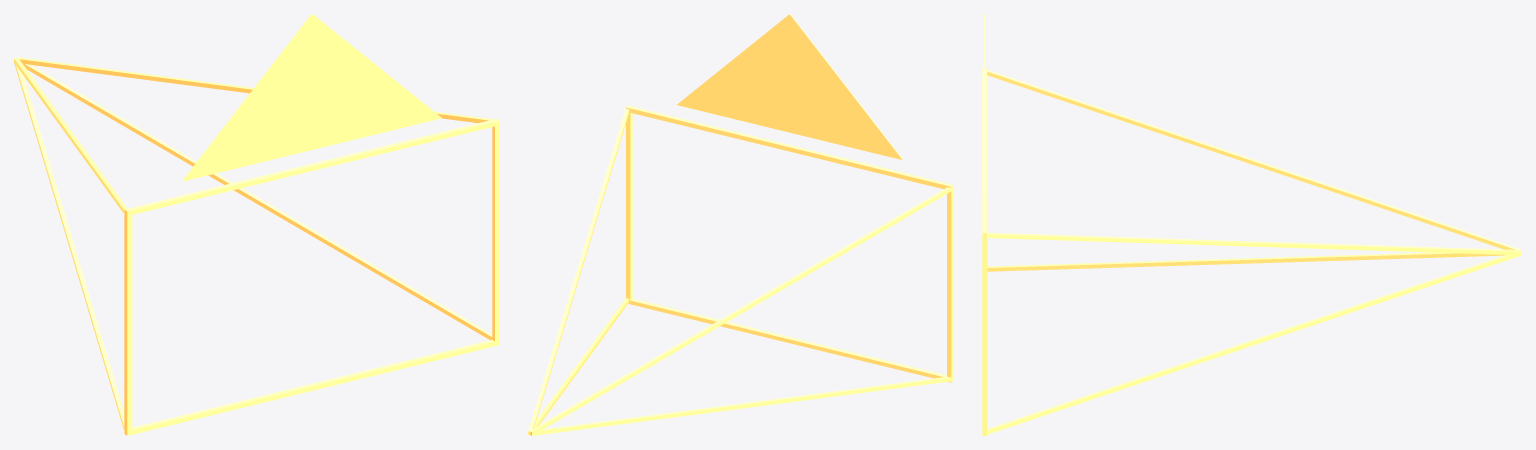
Rendered from camera.glb.
3 renders of one model, left to right at view 1: azimuth 30°, elevation 25°; view 2: azimuth 150°, elevation 25°; view 3: azimuth 270°, elevation 25°, orthographic. The views are drawn at different scales.
Visible parts, largest first — view 1: Object_4; view 2: Object_4; view 3: Object_4.
Boxes of the visible parts, left/top/right/bottom form: Object_4: left=14, top=14, right=499, bottom=435; Object_4: left=528, top=14, right=953, bottom=435; Object_4: left=982, top=14, right=1521, bottom=435.
Size of the model in its own units: 0.1314 by 0.1261 by 0.1817.
